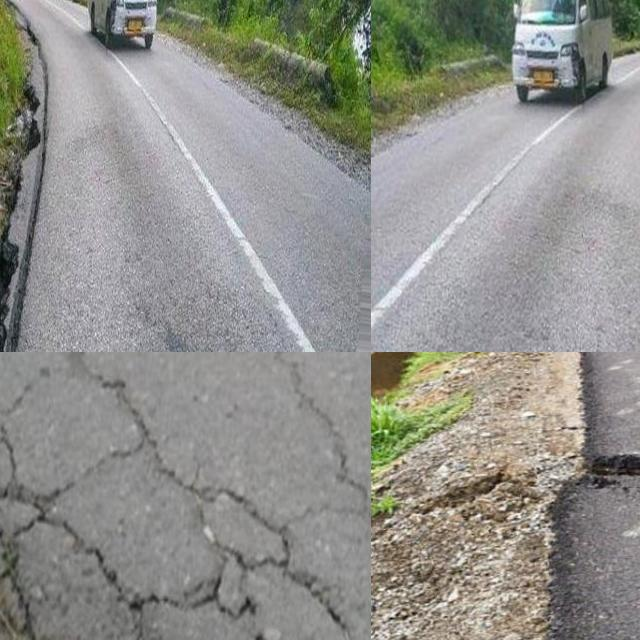Pinggir: (0, 390, 371, 640), (540, 441, 640, 640), (0, 40, 61, 352)
